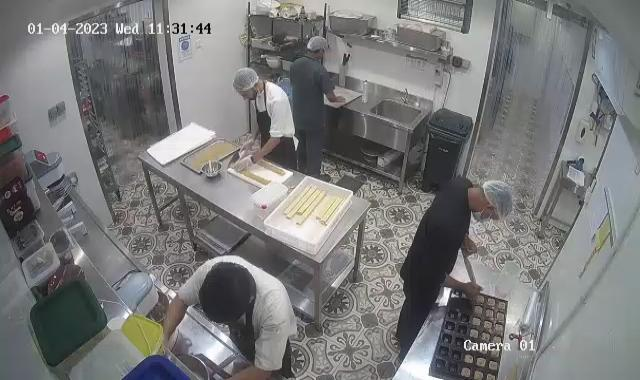hairnet: (477, 180, 521, 227), (232, 67, 259, 95), (307, 34, 329, 56)
no_hairnet: (196, 261, 259, 325)
